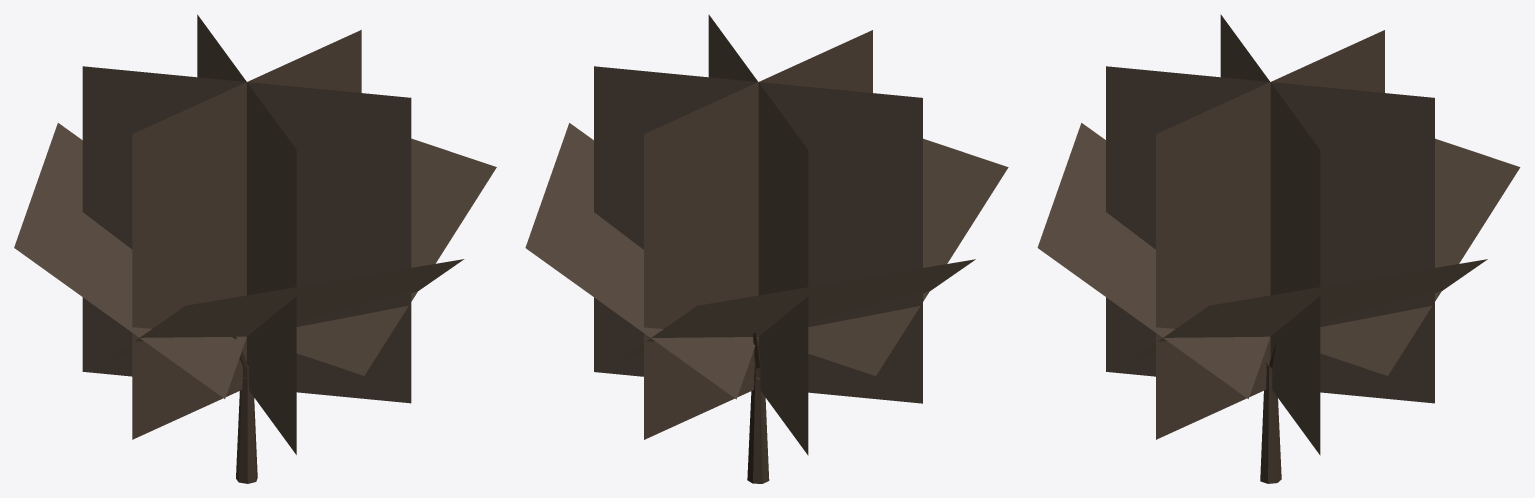
The model's file is tree_bare.glb.
3 views of the same model, side by side, from view 1: azimuth 30°, elevation 25°; view 2: azimuth 150°, elevation 25°; view 3: azimuth 270°, elevation 25° (orthographic).
Visible parts, largest first — view 1: tree_bare; view 2: tree_bare; view 3: tree_bare.
Part boxes in pixels (x1,y1,x2,y2): tree_bare: (14, 14, 496, 483); tree_bare: (525, 14, 1008, 483); tree_bare: (1037, 14, 1520, 483).
Size of the model in its own units: 13.71 by 11.7 by 12.89.
